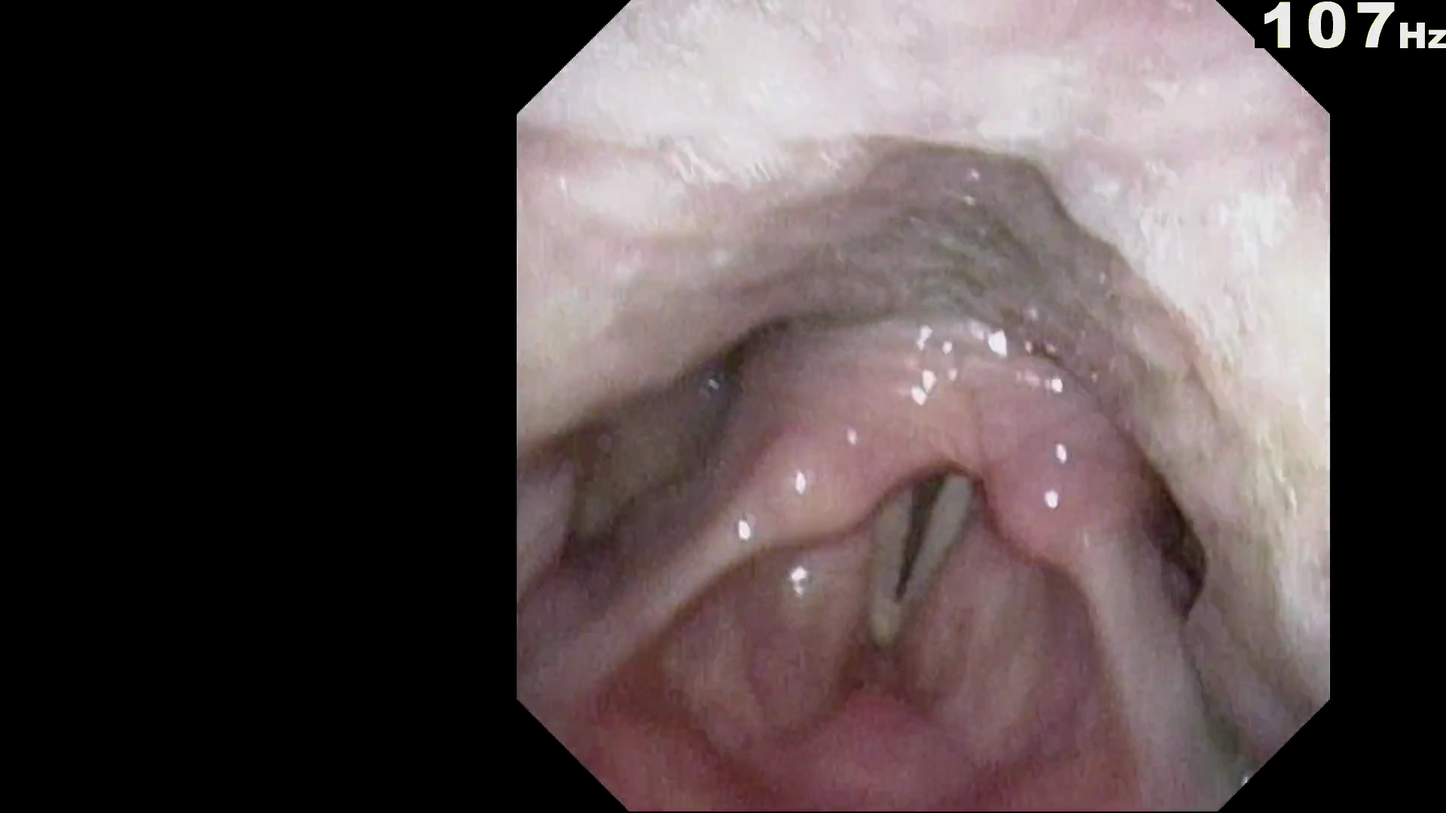trachea: (848, 437, 987, 643)
